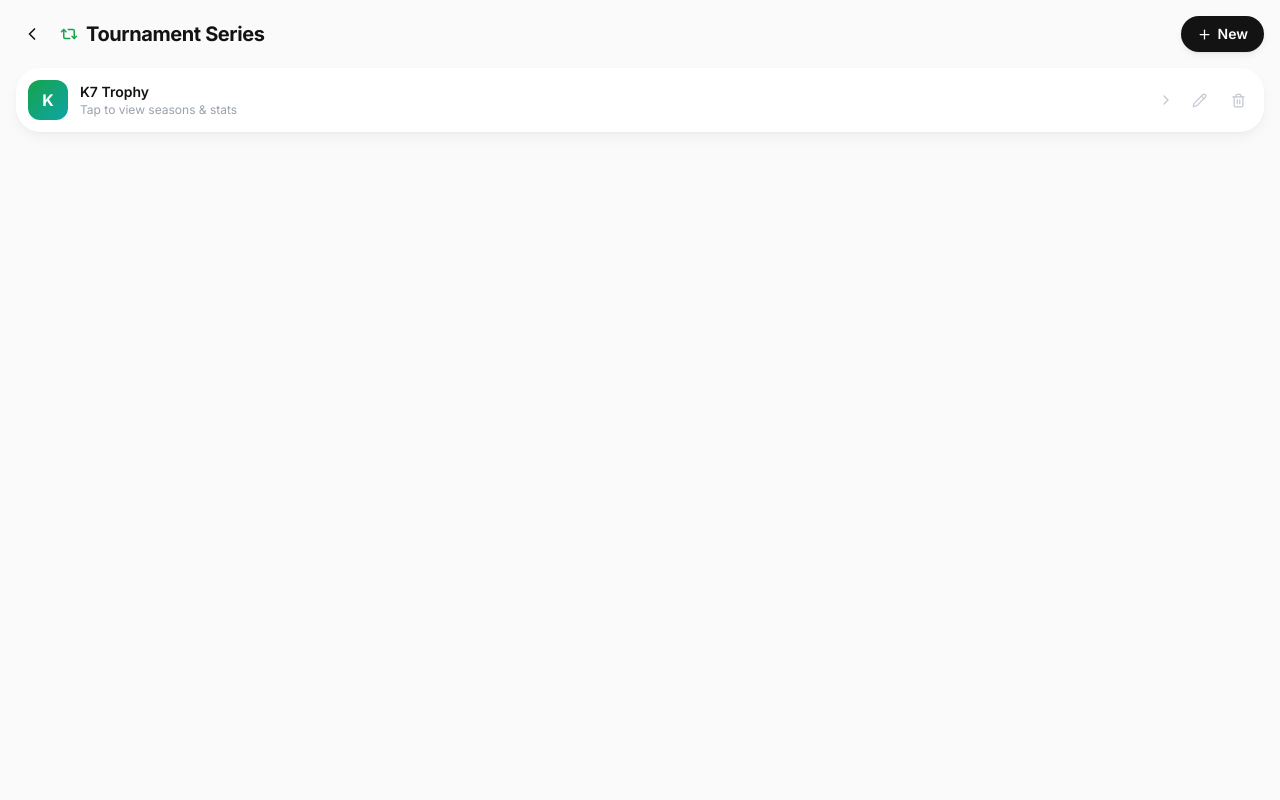
Series page › prompts to delete a series
The image size is (1280, 800).
Expected: the text "K7 Trophy" is shown, [80,83,149,100]
Click the button named "Delete K7 Trophy" at (1238, 100), box [1225,86,1252,114]
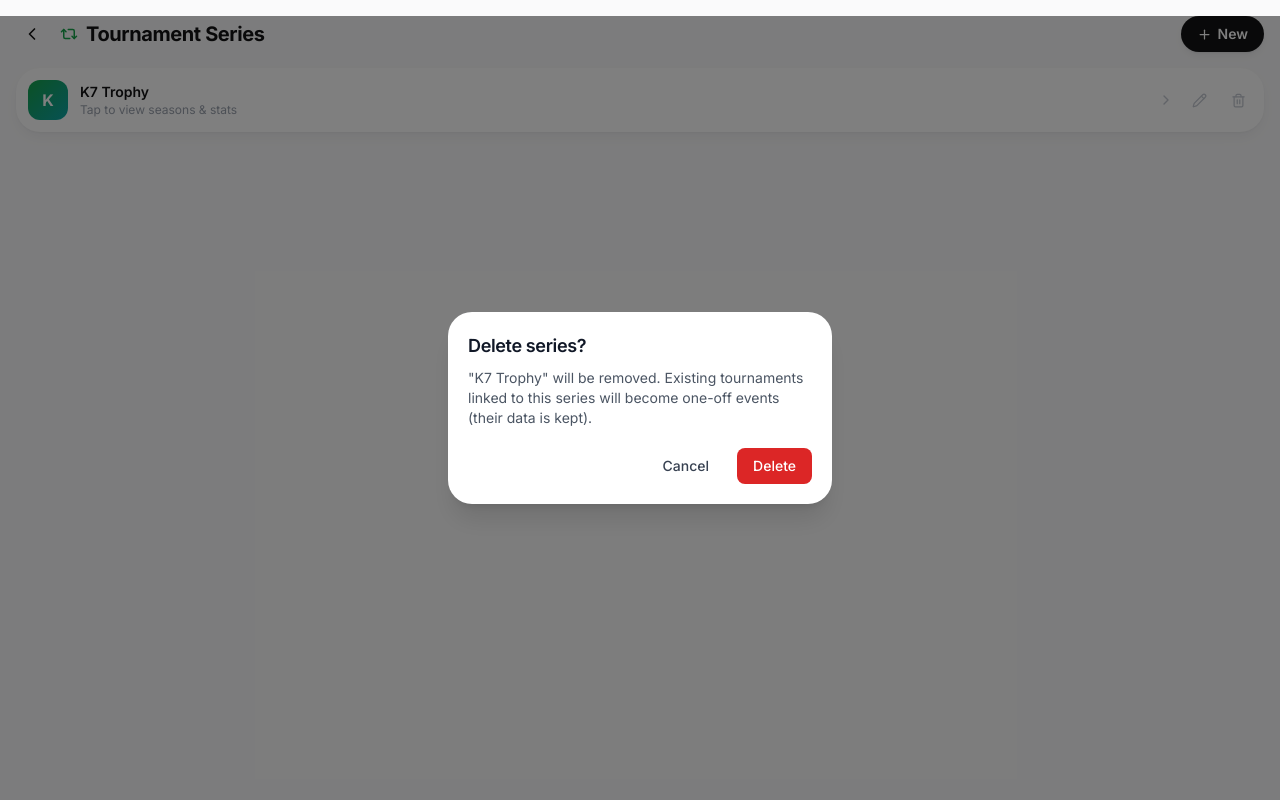
Result: the heading "Delete series?" is shown at [468,335,586,356]
